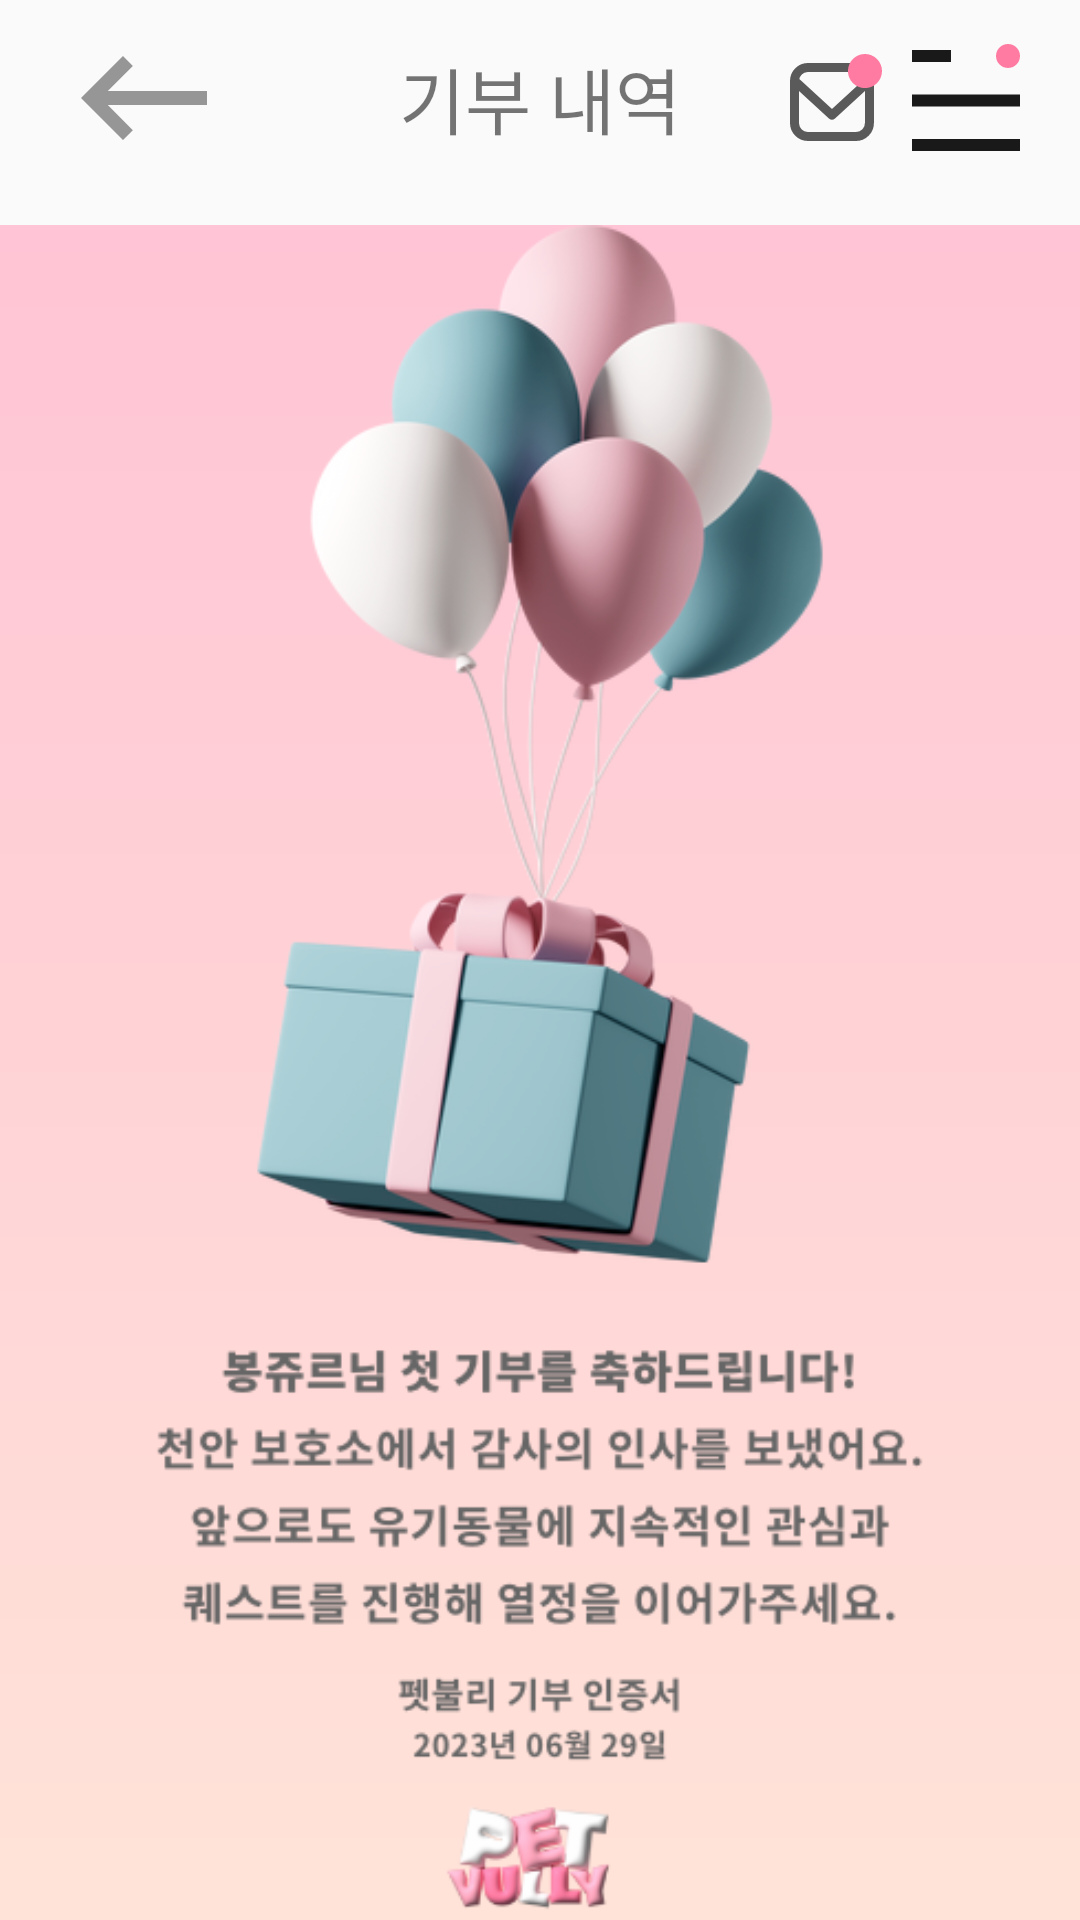

Icons on this 1080 x 1920 Android screen, each with its box as (x1,y1,x2,y2):
back: (81,56,207,140)
menu: (912,44,1020,151)
